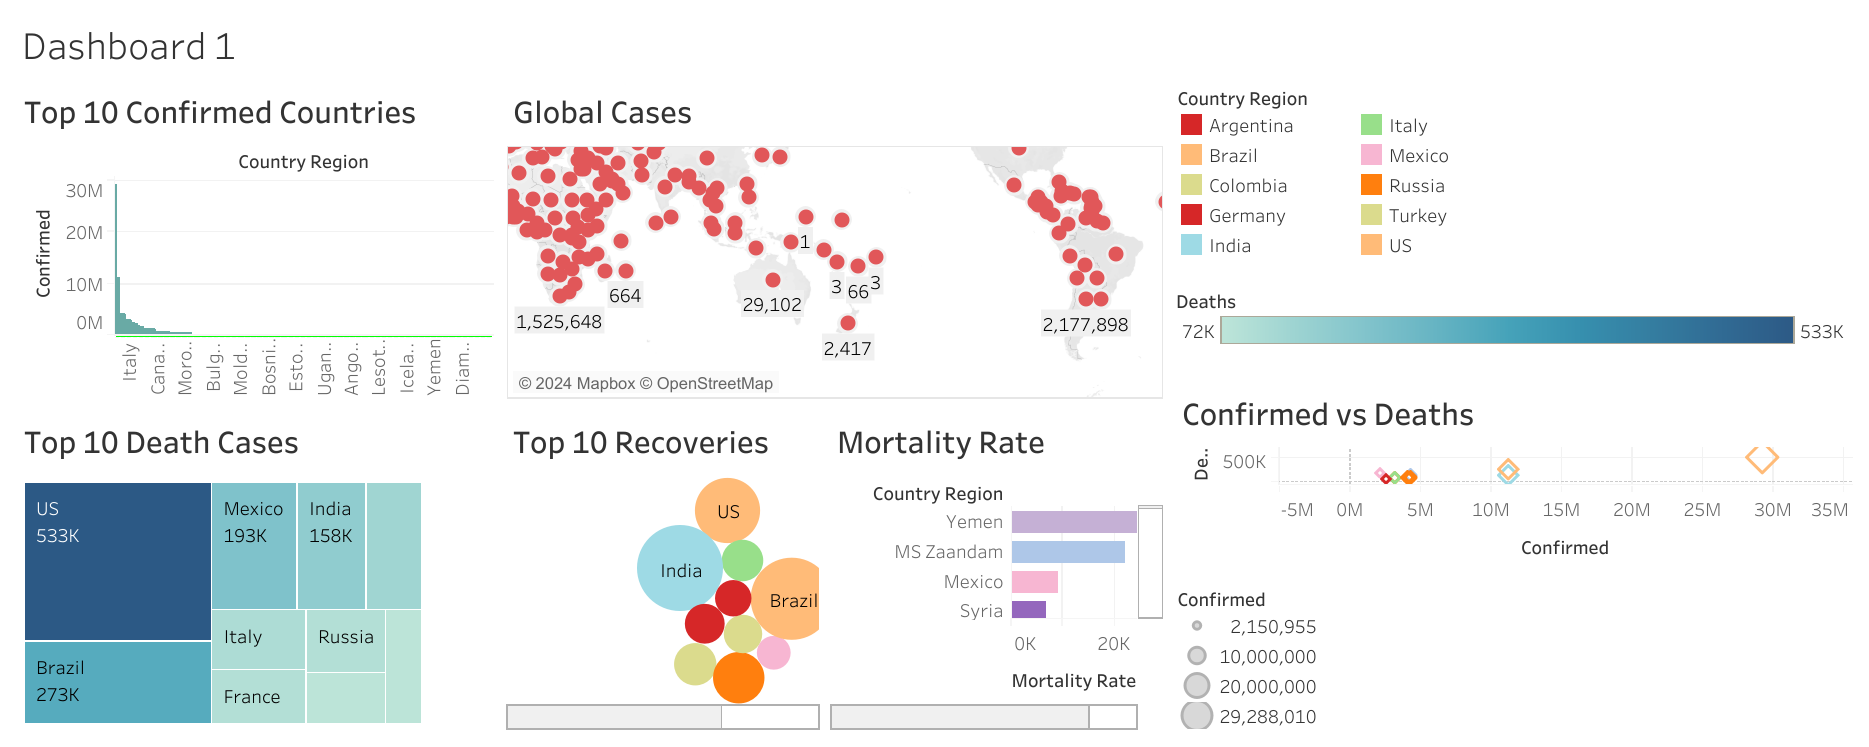

Layout of this report page (visuals, bound fields, positions):
{"tool":"tableau","page":{"name":"Dashboard 1","canvas":[1000,1000],"units":"permille","ordinal":0},"visuals":[{"type":"title","box":[5,10.7,990,77.7]},{"type":"worksheet","title":"Top 10 Confirmed Countries","mark":"Automatic","rows":["Confirmed"],"cols":["Country Region"],"box":[5,88.5,297.4,450.4]},{"type":"worksheet","title":"Global Cases","mark":"Automatic","box":[302.4,88.5,406.4,450.4]},{"type":"legend","title":"Top 10 Recoveries","param":"[federated.05fr5d10b9yidv132azvz1kebpay].[none:Country Region:nk]","box":[708.9,88.5,286.2,308.3]},{"type":"legend","title":"Top 10 Death Cases","param":"[federated.05fr5d10b9yidv132azvz1kebpay].[sum:Deaths:qk]","box":[708.9,396.8,286.2,108.6]},{"type":"worksheet","title":"Confirmed vs Deaths","mark":"Automatic","rows":["Deaths"],"cols":["Confirmed"],"box":[708.9,505.4,286.2,304.3]},{"type":"worksheet","title":"Top 10 Death Cases","mark":"Automatic","box":[5,538.8,297.5,450.4]},{"type":"worksheet","title":"Top 10 Recoveries","mark":"Circle","box":[302.4,538.8,196.5,450.4]},{"type":"worksheet","title":"Mortality Rate","mark":"Automatic","rows":["Country Region"],"cols":["Mortality Rate"],"box":[498.9,538.8,209.9,450.4]},{"type":"legend","title":"Confirmed vs Deaths","param":"[federated.05fr5d10b9yidv132azvz1kebpay].[sum:Confirmed:qk]","box":[708.9,809.7,286.2,179.6]}]}

Visuals, with their boxes on the dashboard's canvas, which has no fixed pixel size, in thousandths of its width and height (x1, y1, x2, y2). These are canvas units, not pixel positions in the 1869x747 screenshot, which may show the page scaled, cropped or inside an application window:
title: 5 11 995 88
"Top 10 Confirmed Countries" worksheet: 5 88 302 539
"Global Cases" worksheet: 302 88 709 539
"Top 10 Recoveries" legend: 709 88 995 397
"Top 10 Death Cases" legend: 709 397 995 505
"Confirmed vs Deaths" worksheet: 709 505 995 810
"Top 10 Death Cases" worksheet: 5 539 302 989
"Top 10 Recoveries" worksheet (Circle marks): 302 539 499 989
"Mortality Rate" worksheet: 499 539 709 989
"Confirmed vs Deaths" legend: 709 810 995 989
